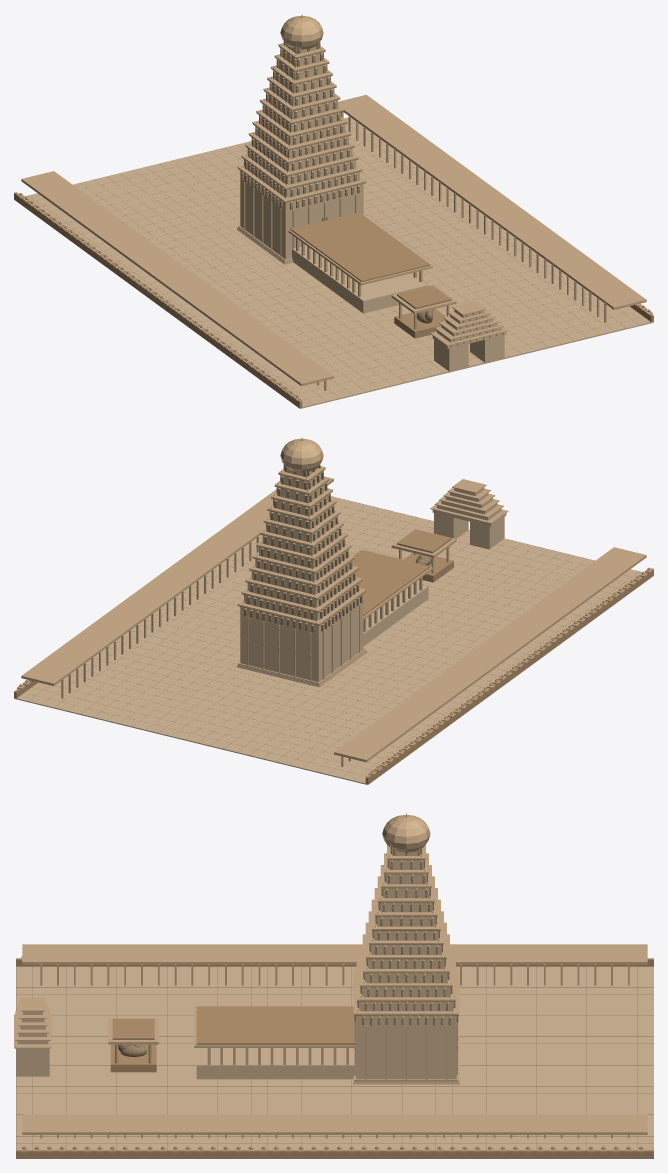
Rendered from brihadisvara.glb.
3 views of the same model, one above another, from view 1: azimuth 30°, elevation 25°; view 2: azimuth 150°, elevation 25°; view 3: azimuth 270°, elevation 25° (orthographic). The views are drawn at different scales.
Visible parts, largest first — view 1: sandstone, stoneLight, stoneDark, stone; view 2: sandstone, stoneLight, stoneDark, stone; view 3: sandstone, stoneLight, stone, stoneDark.
Boxes of the visible parts, x1,y1,x2,y2 form: sandstone: (24,44,652,408); stoneLight: (17,15,652,400); stoneDark: (28,39,650,407); stone: (14,192,653,408); sandstone: (15,467,641,784); stoneLight: (17,438,652,775); stoneDark: (32,462,639,780); stone: (14,529,653,784); sandstone: (16,848,653,1149); stoneLight: (14,815,647,1152); stone: (16,956,653,1158); stoneDark: (15,845,653,1149).
Bounding box in the file's own units: 109 × 65.65 × 152.
